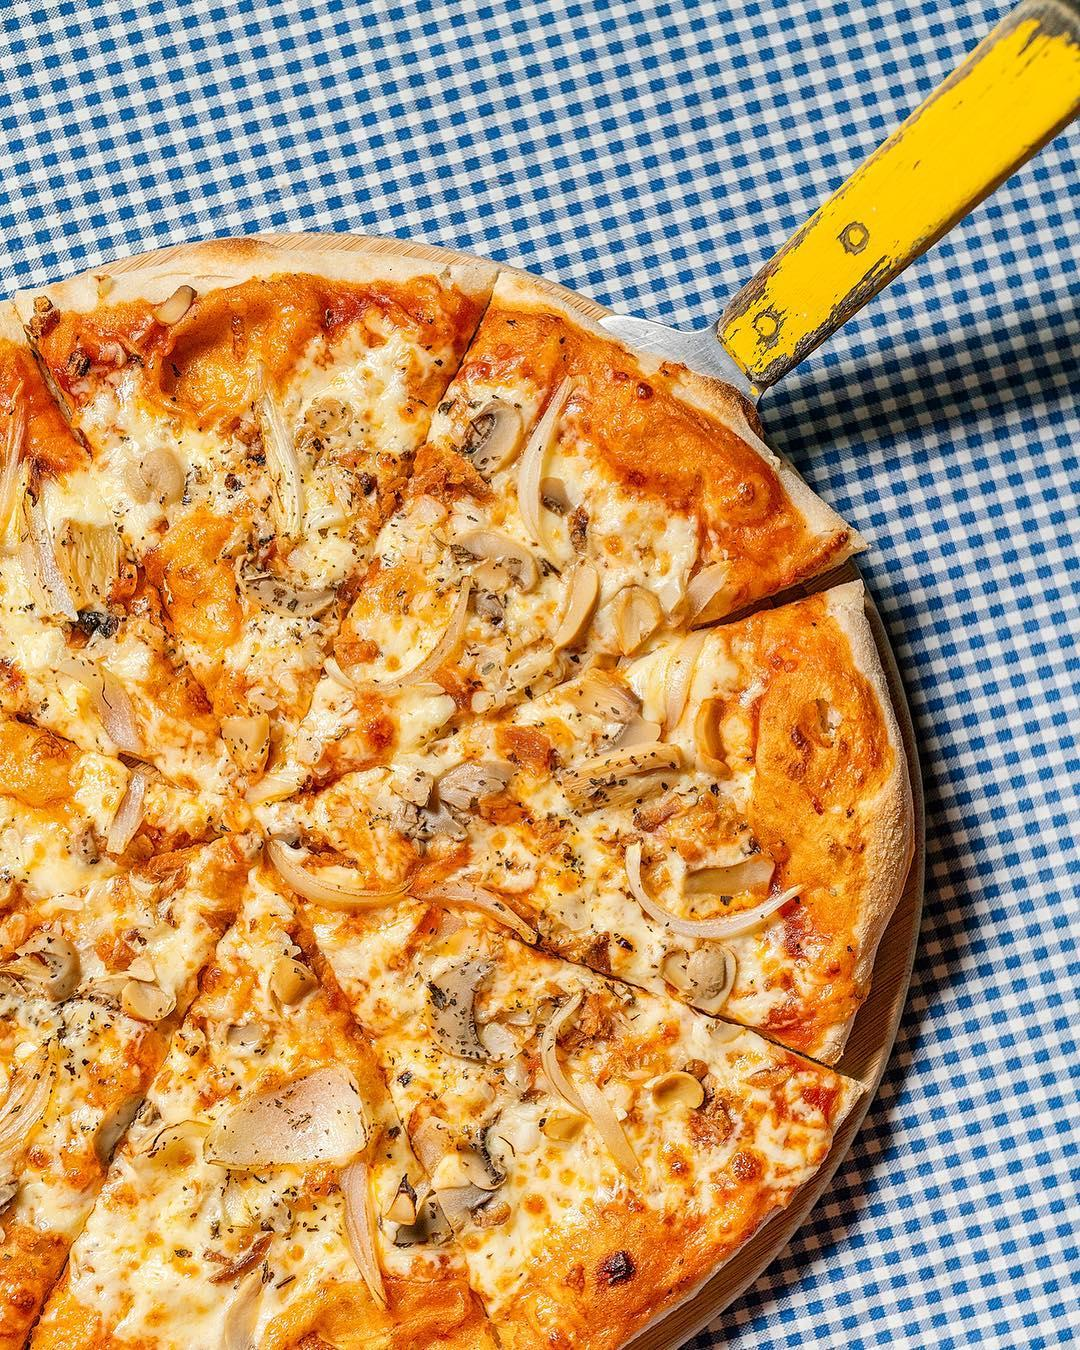Mushroom: (421, 960, 496, 1057), (454, 525, 542, 597), (469, 397, 526, 473), (688, 940, 737, 1014), (465, 1108, 504, 1192)
Pizza: (0, 230, 922, 1350)
